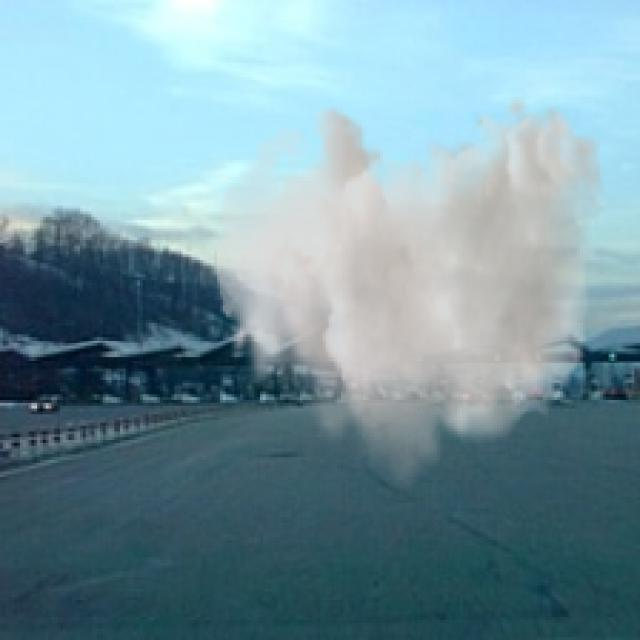Smoke: (214, 94, 606, 494)
